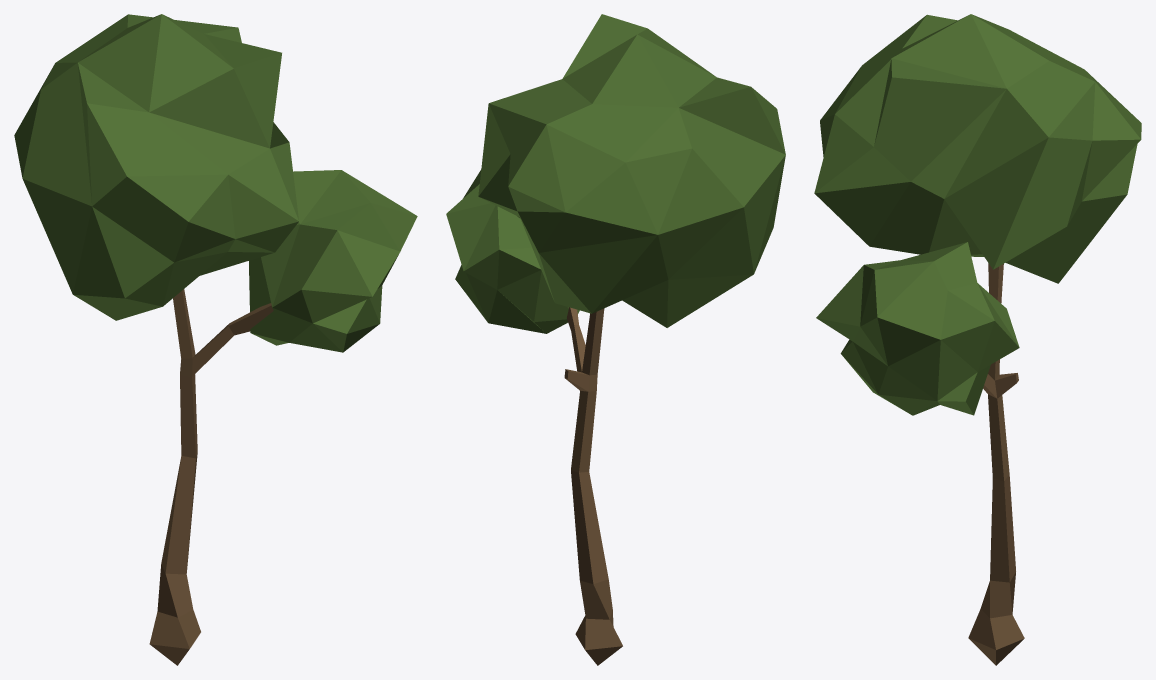
The model's file is Tree2.glb.
3 views of the same model, side by side, from view 1: azimuth 30°, elevation 25°; view 2: azimuth 150°, elevation 25°; view 3: azimuth 270°, elevation 25° (orthographic). The views are drawn at different scales.
Visible parts, largest first — view 1: tree2; view 2: tree2; view 3: tree2.
Boxes of the visible parts, box(x1,y1,x2,y2) form: tree2: box(14, 14, 417, 665); tree2: box(446, 14, 785, 665); tree2: box(814, 14, 1141, 665).
Size of the model in its own units: 8.51 by 16.31 by 7.58.
Materials: 1 (1 with a texture image).
